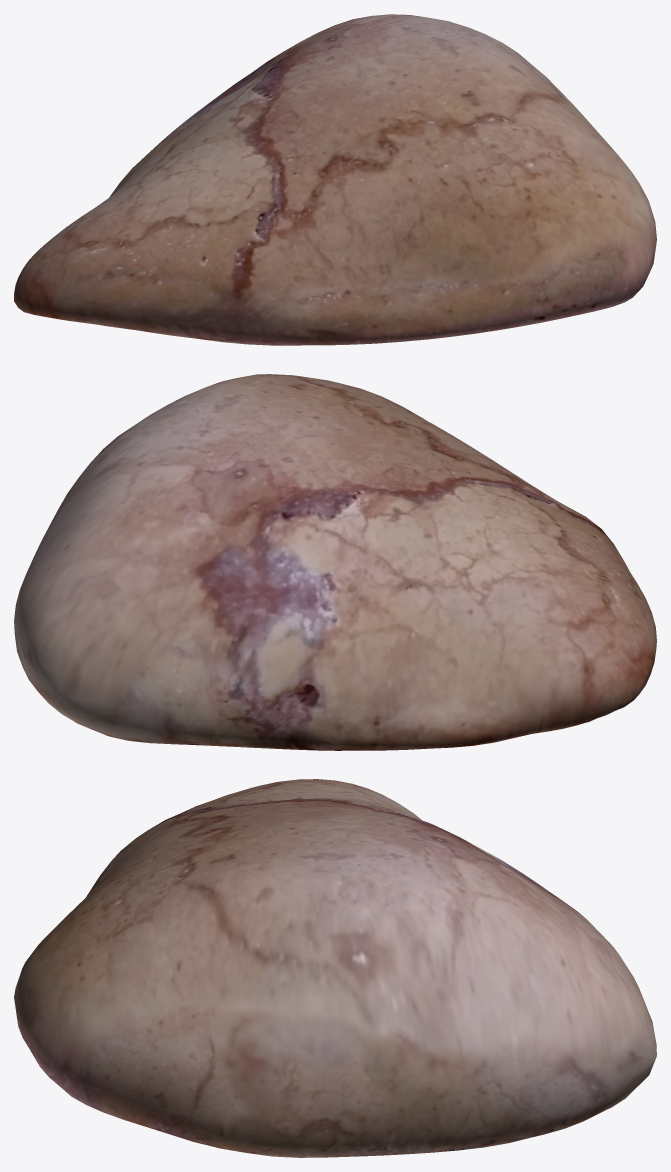
File: BeachRock11.fbx
3 views of the same model, one above another, from view 1: azimuth 30°, elevation 25°; view 2: azimuth 150°, elevation 25°; view 3: azimuth 270°, elevation 25° (orthographic). The views are drawn at different scales.
Visible parts, largest first — view 1: BeachRock11_LOD0; view 2: BeachRock11_LOD0; view 3: BeachRock11_LOD0.
Part boxes in pixels (x1,y1,x2,y2): BeachRock11_LOD0: (14, 14, 656, 345); BeachRock11_LOD0: (14, 374, 656, 750); BeachRock11_LOD0: (14, 779, 656, 1157).
Size of what is drawn, in the model's own units: 23.6 by 9.64 by 21.46.
